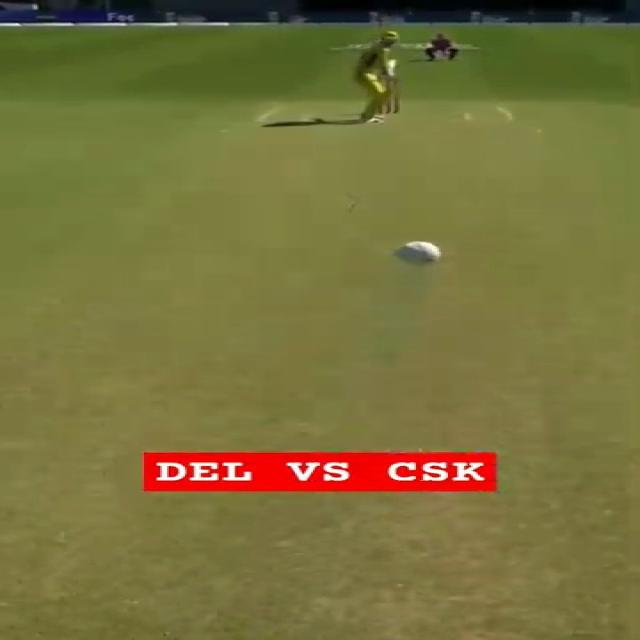ball: (379, 235, 452, 273)
